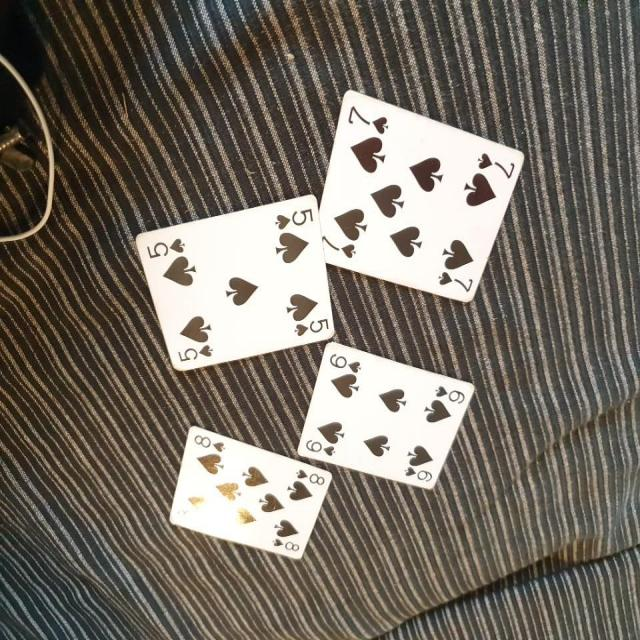5 Spades: (131, 180, 344, 369)
6 Spades: (291, 340, 478, 500)
7 Spades: (305, 79, 533, 325)
8 Spades: (161, 416, 337, 567)
